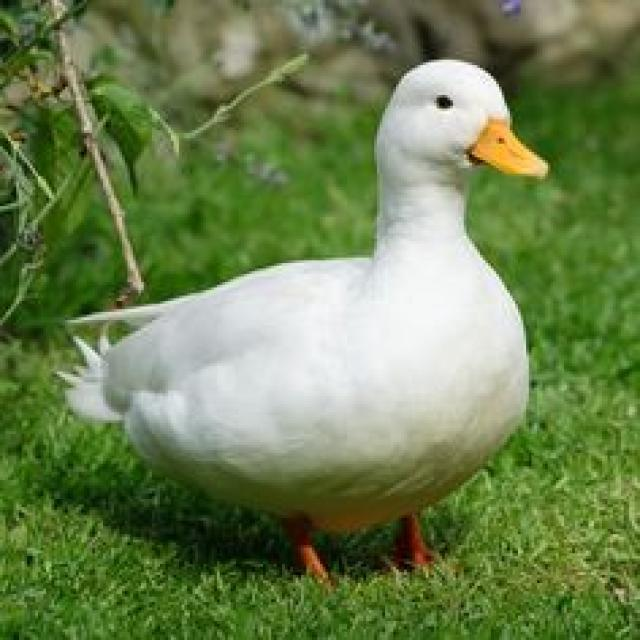Herbivorous: (62, 60, 551, 588)
